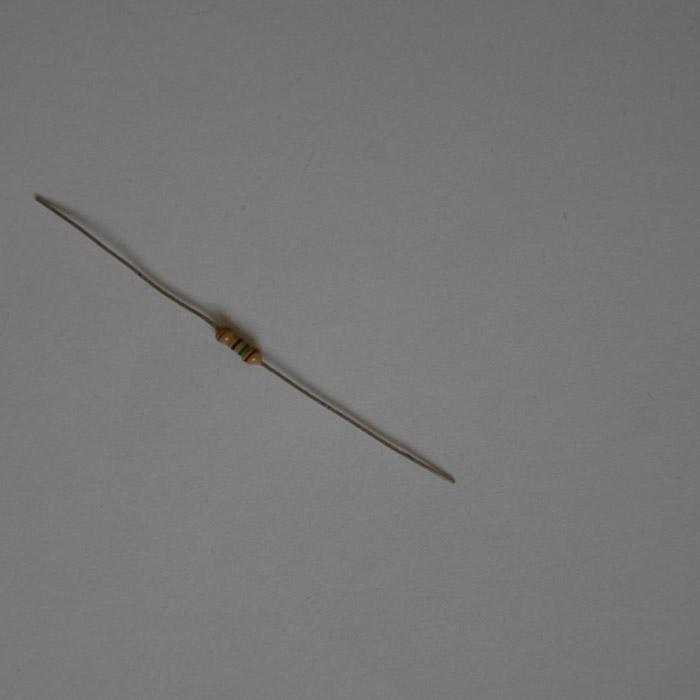resistor: (214, 326, 260, 367)
